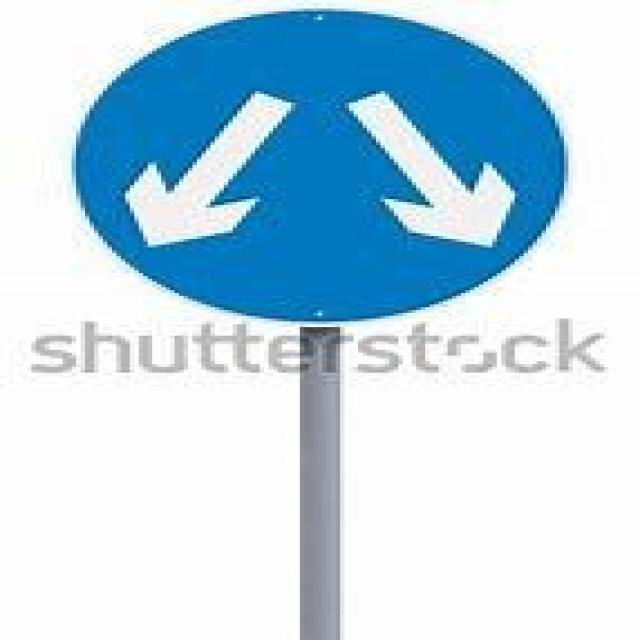pass either side: (76, 7, 568, 324)
